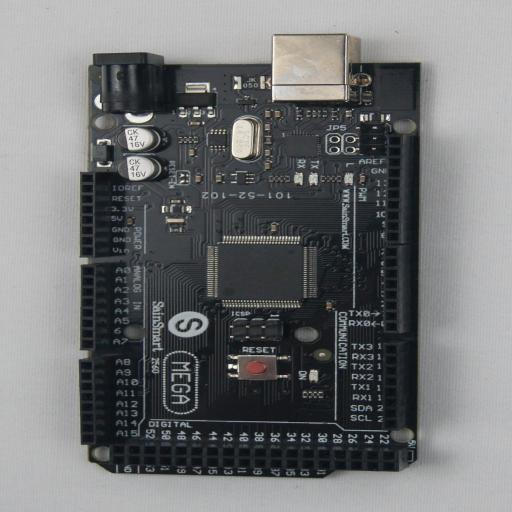Arduino Mega 2560 -Black-: (79, 35, 421, 478)
